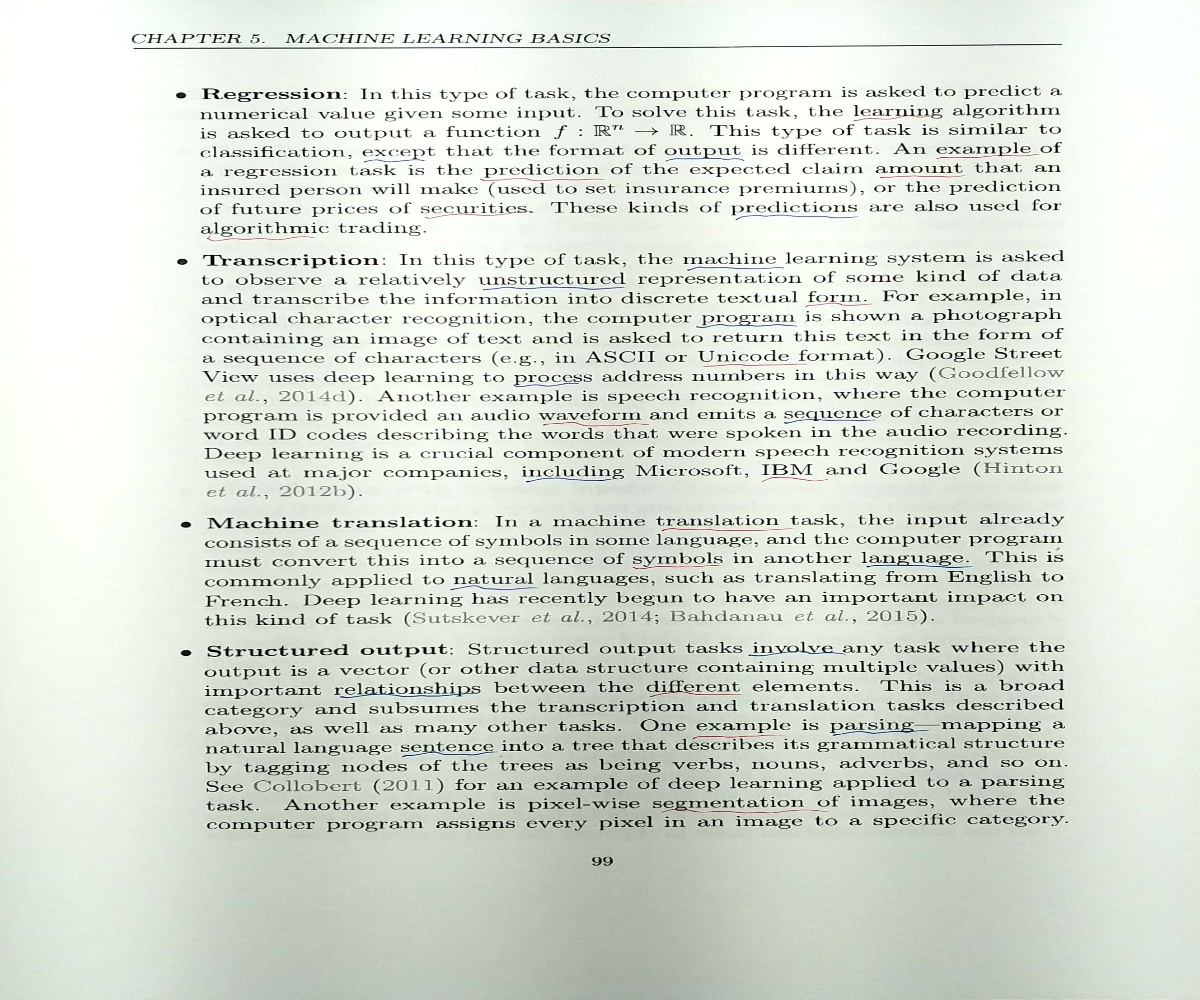underline: (659, 806, 830, 816), (735, 211, 865, 223), (479, 283, 625, 293), (337, 691, 477, 700), (421, 210, 536, 220), (523, 474, 616, 486), (541, 420, 650, 430), (201, 235, 321, 244), (932, 151, 1039, 161), (696, 321, 799, 331), (479, 175, 607, 183), (830, 728, 932, 738), (780, 416, 879, 426), (864, 562, 973, 571), (401, 750, 498, 760), (658, 526, 795, 533), (759, 473, 835, 485), (747, 650, 845, 659), (649, 689, 746, 698), (853, 113, 940, 123), (685, 264, 784, 272), (450, 583, 537, 592), (664, 155, 749, 164), (691, 732, 785, 740), (875, 171, 967, 179), (804, 301, 874, 309), (700, 361, 810, 366), (513, 382, 585, 389), (629, 565, 722, 570), (362, 156, 426, 163)
